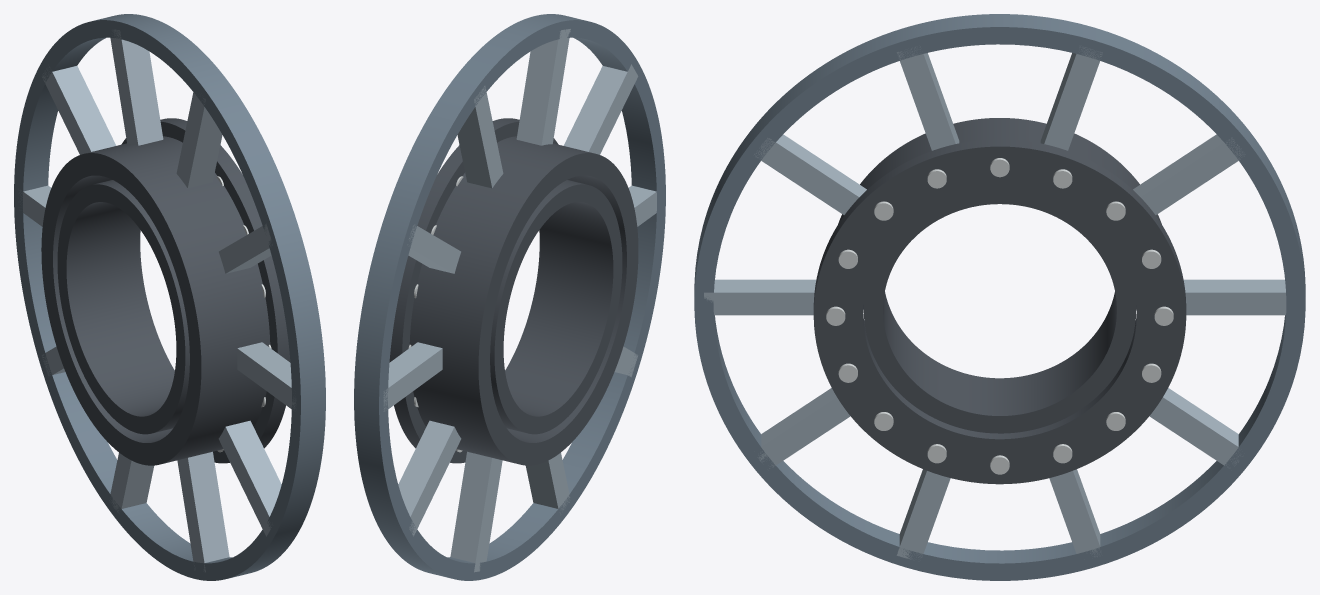
The model's file is bearing-cartridge.glb.
3 renders of one model, left to right at view 1: azimuth 30°, elevation 25°; view 2: azimuth 150°, elevation 25°; view 3: azimuth 270°, elevation 25°, orthographic. The views are drawn at different scales.
Visible parts, largest first — view 1: bearing-cartridge - seal, bearing-cartridge - shell, bearing-cartridge - steel; view 2: bearing-cartridge - seal, bearing-cartridge - shell, bearing-cartridge - steel; view 3: bearing-cartridge - seal, bearing-cartridge - shell, bearing-cartridge - steel, bearing-cartridge - fastener.
Part boxes in pixels (x1=…): bearing-cartridge - seal: x1=41, y1=118, x2=290, y2=465; bearing-cartridge - shell: x1=14, y1=14, x2=325, y2=580; bearing-cartridge - steel: x1=19, y1=29, x2=296, y2=572; bearing-cartridge - seal: x1=389, y1=118, x2=638, y2=465; bearing-cartridge - shell: x1=354, y1=14, x2=665, y2=580; bearing-cartridge - steel: x1=383, y1=29, x2=656, y2=572; bearing-cartridge - seal: x1=813, y1=118, x2=1186, y2=484; bearing-cartridge - shell: x1=694, y1=14, x2=1305, y2=580; bearing-cartridge - steel: x1=704, y1=46, x2=1286, y2=559; bearing-cartridge - fastener: x1=826, y1=158, x2=1173, y2=474.
Bounding box in the file's own units: 0.221 × 1.27 × 1.27.
